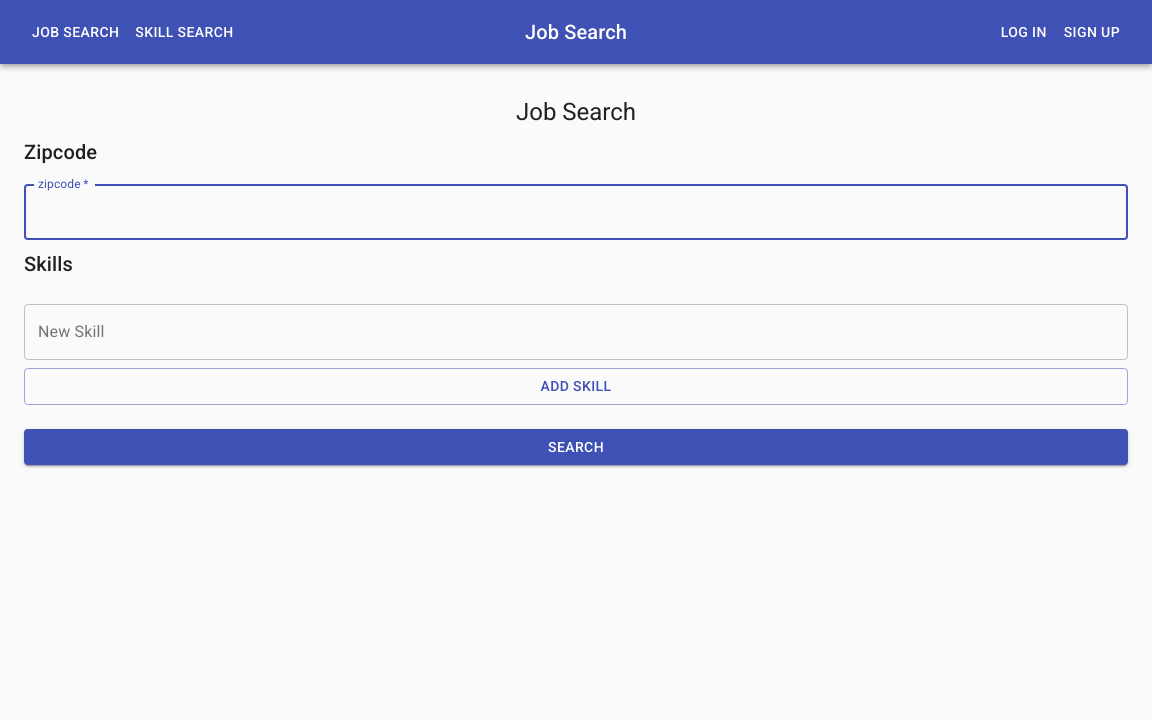
Test case: Job Search › Skills Add Not Existing- FAILURE
This screenshot has width=1152, height=720.
Expected: the heading with id "navBarTitle" reads "Job Search", [525, 20, 627, 44]
In the field labelled "New Skill": (561, 332) [33, 313, 1089, 351], type "mechanical"
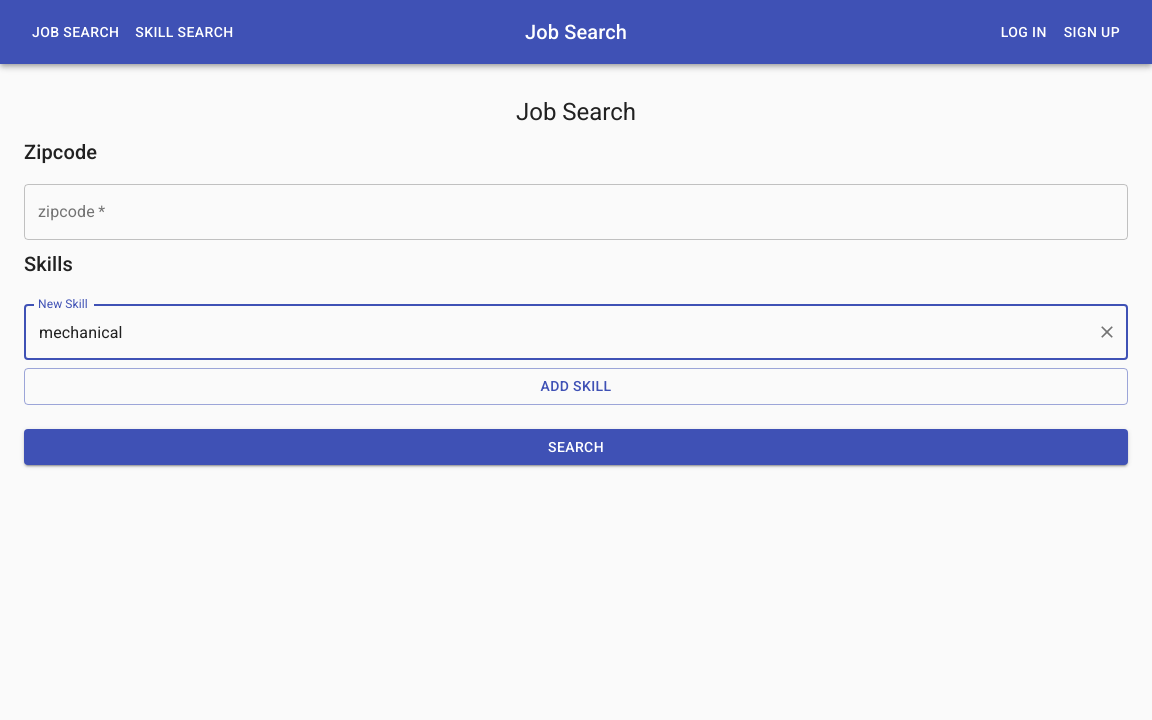
Click the button with id "addSkill": (576, 387) [24, 368, 1128, 405]
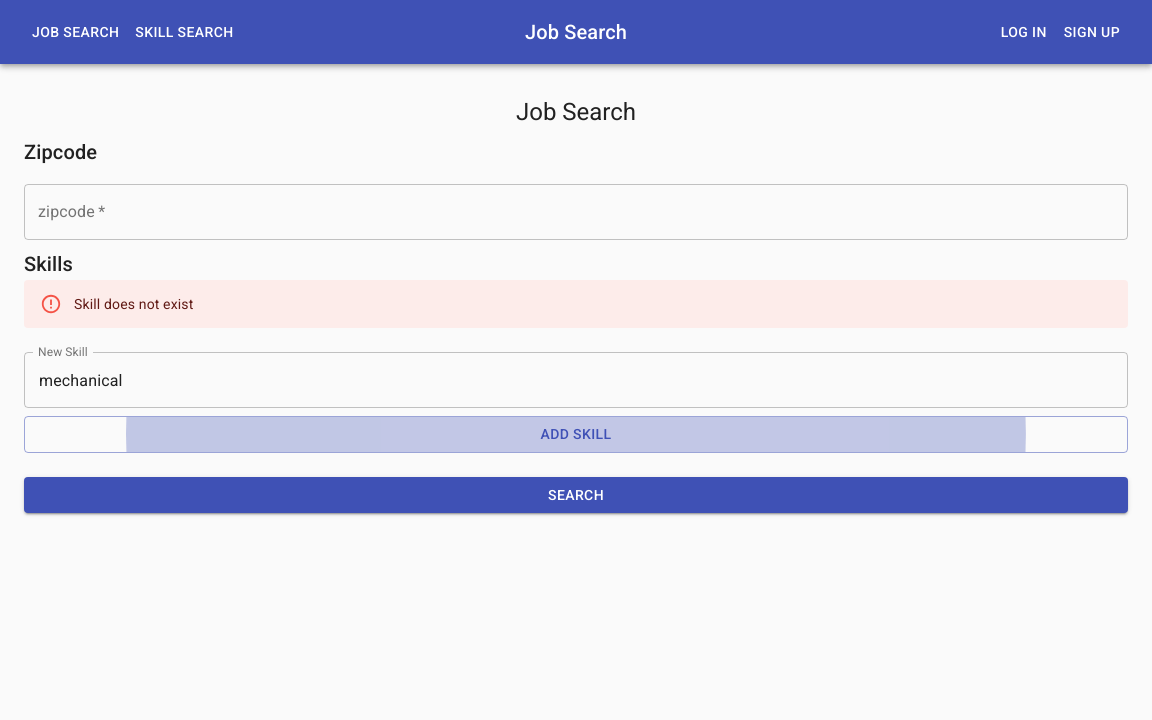
Now the text "Skill does not exist" is shown, box [74, 296, 194, 312]
